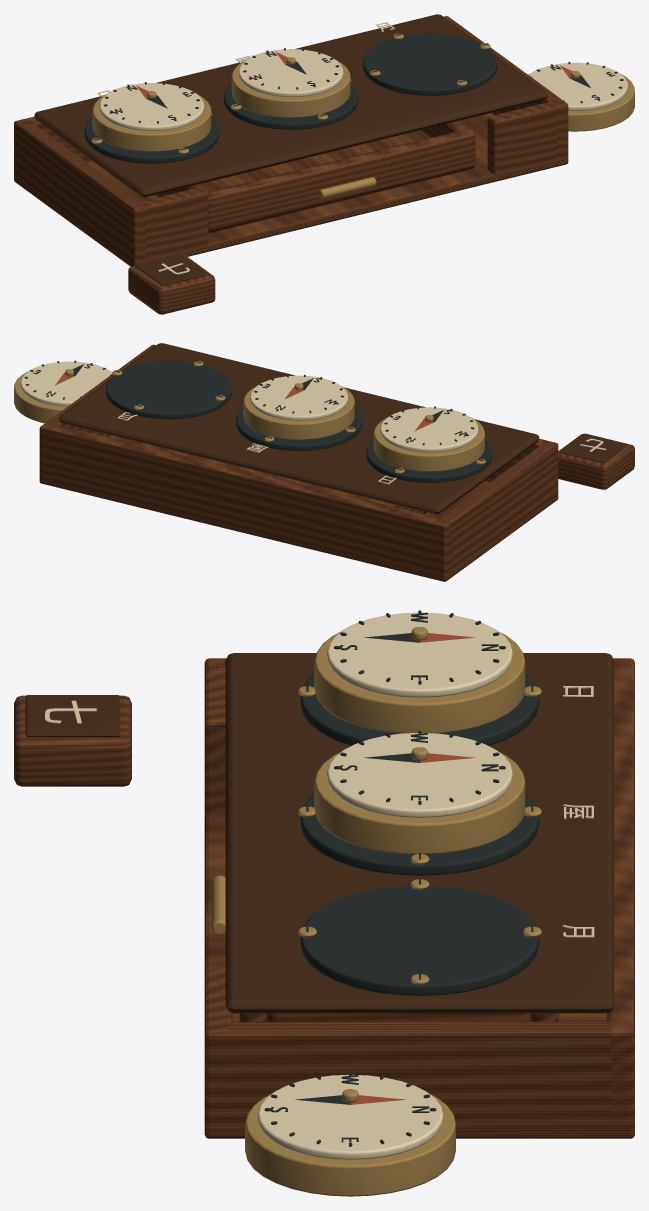
Rendered from P03_CompassBoard.fbx.
The picture shows the model from 3 angles, top to bottom: view 1: azimuth 30°, elevation 25°; view 2: azimuth 150°, elevation 25°; view 3: azimuth 270°, elevation 25°; orthographic projection. The views are drawn at different scales.
Visible parts, largest first — view 1: Compass dark face.001, CompassRewardDrawer_Front.001, Compass cabinet side.002, Compass base.001, Socket recess.005, Compass front shoulder.003, Compass front shoulder.002, Compass face.004, Compass face.003, CompassRewardDrawer_Bottom.001, Compass face.005, Compass casing.003 (+9 smaller); view 2: Compass cabinet back.001, Compass dark face.001, Compass cabinet side.002, Socket recess.005, Compass base.001, Compass face.003, Compass face.004, Compass face.005, Compass casing.003, Compass casing.004, Letter block 七.001, Socket recess.003 (+6 smaller); view 3: Compass dark face.001, Compass cabinet side.003, Socket recess.005, Compass face.005, Compass face.004, Compass face.003, Compass cabinet back.001, Compass casing.004, Compass casing.005, Compass casing.003, Letter block 七.001, Socket recess.004 (+7 smaller).
Part boxes in pixels (bbox=[...]): Compass dark face.001: bbox=[34, 14, 547, 197]; CompassRewardDrawer_Front.001: bbox=[208, 129, 475, 232]; Compass cabinet side.002: bbox=[14, 119, 145, 263]; Compass base.001: bbox=[14, 113, 568, 266]; Socket recess.005: bbox=[363, 33, 497, 95]; Compass front shoulder.003: bbox=[487, 99, 568, 175]; Compass front shoulder.002: bbox=[129, 187, 208, 261]; Compass face.004: bbox=[238, 49, 343, 96]; Compass face.003: bbox=[99, 83, 204, 130]; CompassRewardDrawer_Bottom.001: bbox=[154, 130, 474, 232]; Compass face.005: bbox=[529, 62, 627, 110]; Compass casing.003: bbox=[92, 93, 211, 151]; Compass cabinet back.001: bbox=[40, 422, 451, 576]; Compass dark face.001: bbox=[59, 343, 539, 514]; Compass cabinet side.002: bbox=[434, 441, 558, 576]; Socket recess.005: bbox=[106, 361, 231, 419]; Compass base.001: bbox=[39, 435, 558, 581]; Compass face.003: bbox=[380, 407, 478, 452]; Compass face.004: bbox=[250, 375, 348, 420]; Compass face.005: bbox=[20, 361, 112, 406]; Compass casing.003: bbox=[373, 417, 484, 471]; Compass casing.004: bbox=[243, 386, 354, 439]; Letter block 七.001: bbox=[558, 433, 634, 489]; Socket recess.003: bbox=[366, 439, 492, 482]; Compass dark face.001: bbox=[225, 653, 614, 1013]; Compass cabinet side.003: bbox=[204, 1022, 634, 1128]; Socket recess.005: bbox=[300, 886, 539, 995]; Compass face.005: bbox=[257, 1074, 443, 1159]; Compass face.004: bbox=[327, 733, 512, 817]; Compass face.003: bbox=[327, 612, 512, 697]; Compass cabinet back.001: bbox=[607, 658, 634, 1128]; Compass casing.004: bbox=[314, 752, 525, 854]; Compass casing.005: bbox=[245, 1094, 455, 1196]; Compass casing.003: bbox=[314, 632, 525, 733]; Letter block 七.001: bbox=[14, 695, 131, 786]; Socket recess.004: bbox=[300, 793, 539, 875].
Bounding box in the file's own units: 0.8285 × 0.1615 × 0.4475.
Materials: 6 (1 with a texture image).
